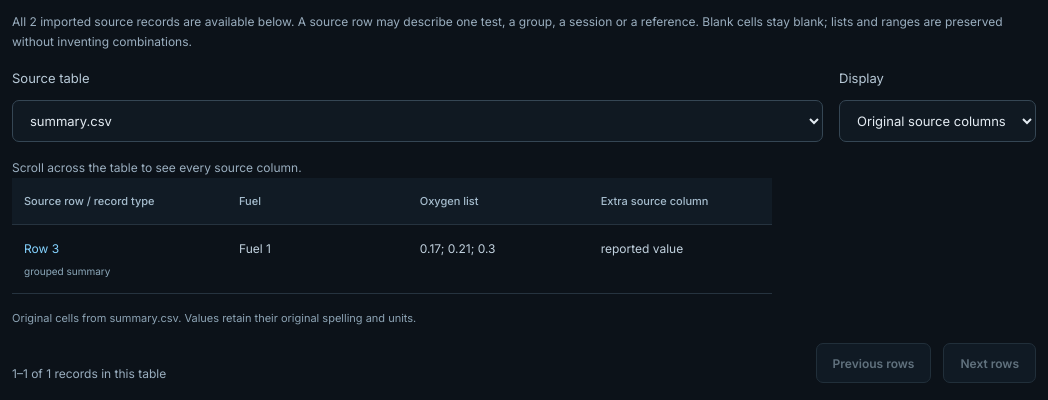
Test: keeps separate source tables accessible
Select "second.csv" in the dropdown labelled "Source table" at point(418, 121), box [12,100,823,142]
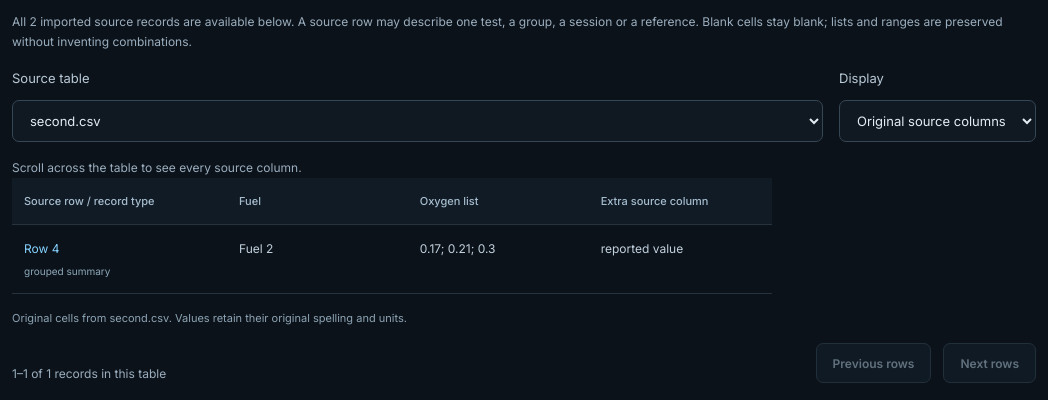
Expected: the text "Fuel 2" is shown, [227,224,408,294]
Expected: the text "Fuel 1" is gone
